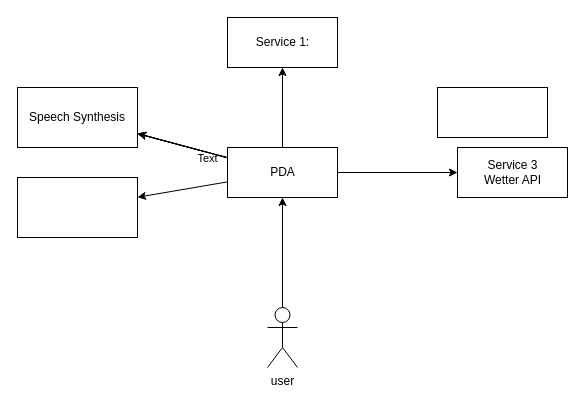
This 585x406 diagram has some shape labels left out. The centre of each missing label's shape, as x and y in pixels:
Service 2 Siri API: [492,112]
Speech Detection: [77,207]
